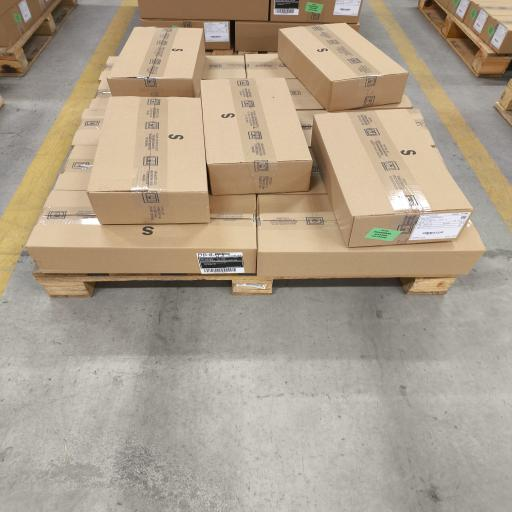pallet: (33, 266, 332, 297), (206, 49, 277, 55), (495, 102, 511, 125), (0, 96, 4, 106)
